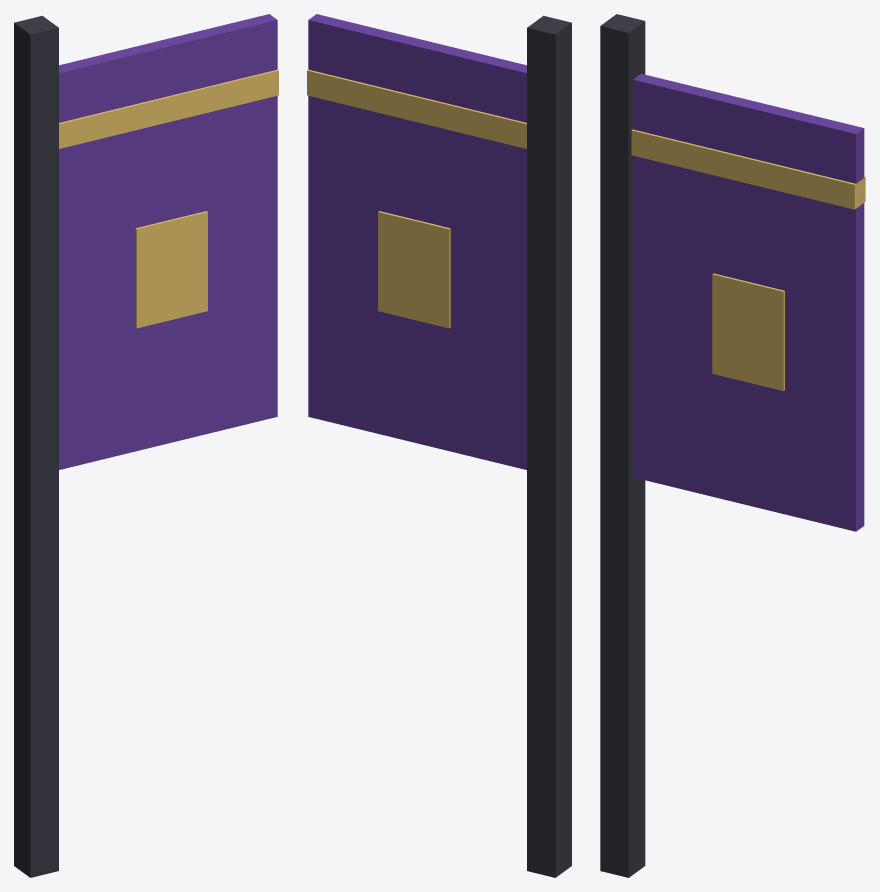
The model's file is banner.glb.
3 views of the same model, side by side, from view 1: azimuth 30°, elevation 25°; view 2: azimuth 150°, elevation 25°; view 3: azimuth 330°, elevation 25° (orthographic).
Visible parts, largest first — view 1: banner; view 2: banner; view 3: banner.
Part boxes in pixels (x1=…): banner: x1=14, y1=14, x2=278, y2=877; banner: x1=307, y1=14, x2=571, y2=877; banner: x1=600, y1=14, x2=865, y2=877.
Bounding box in the file's own units: 1.06 × 3.4 × 0.12.
Materials: 1 (1 with a texture image).
